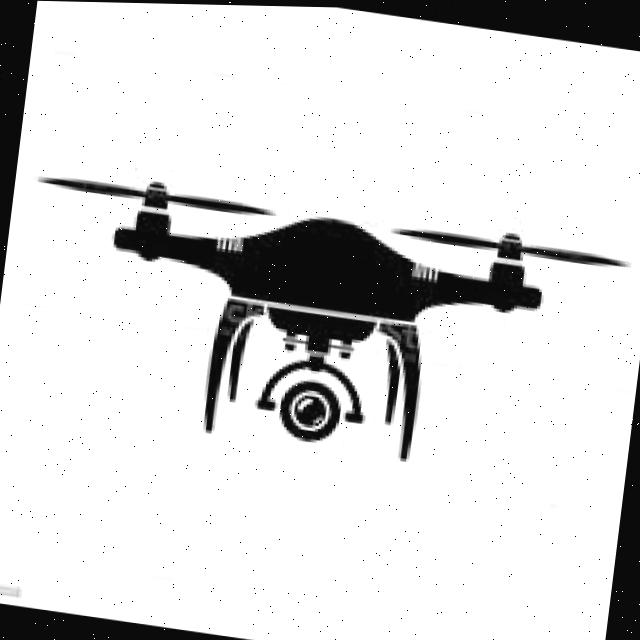drone: (0, 108, 640, 561)
